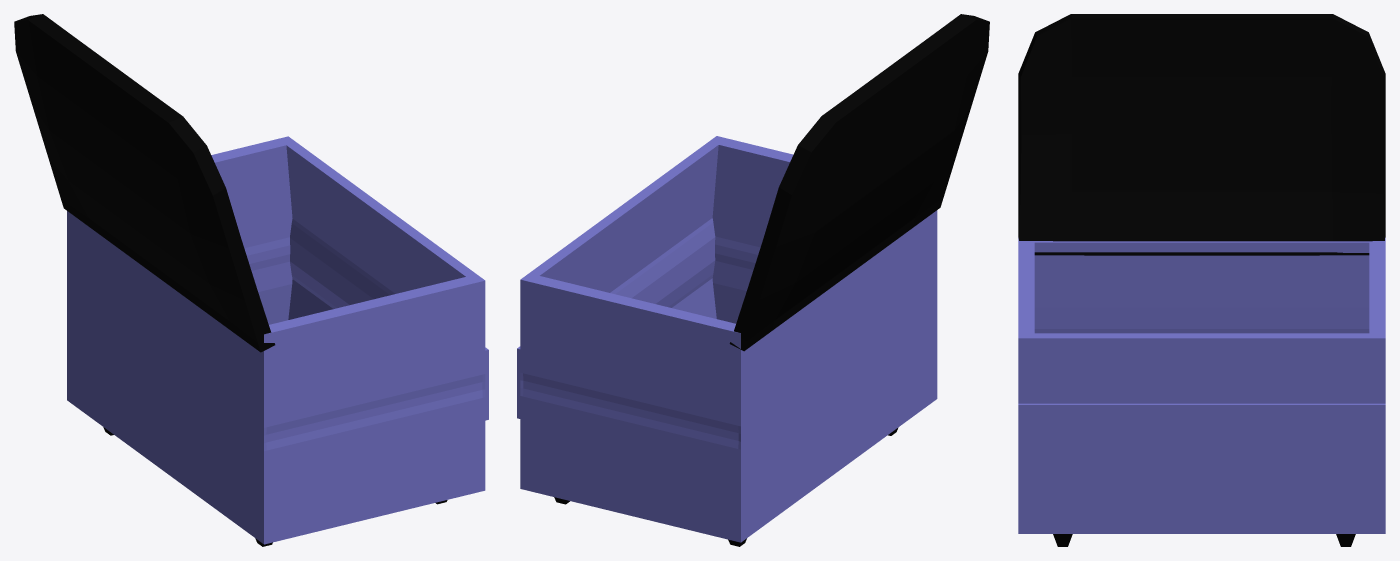
File: Dumpster.glb
3 views of the same model, side by side, from view 1: azimuth 30°, elevation 25°; view 2: azimuth 150°, elevation 25°; view 3: azimuth 270°, elevation 25° (orthographic). The views are drawn at different scales.
Visible parts, largest first — view 1: Dumpster, DumpsterLid; view 2: Dumpster, DumpsterLid; view 3: Dumpster, DumpsterLid.
Boxes of the visible parts, x1,y1,x2,y2 form: Dumpster: (67,136,488,544); DumpsterLid: (14,14,275,352); Dumpster: (517,136,937,542); DumpsterLid: (729,14,989,351); Dumpster: (1018,237,1385,533); DumpsterLid: (1018,14,1385,255).
Size of what is drawn, in the model's own units: 1.71 by 2.48 by 2.
